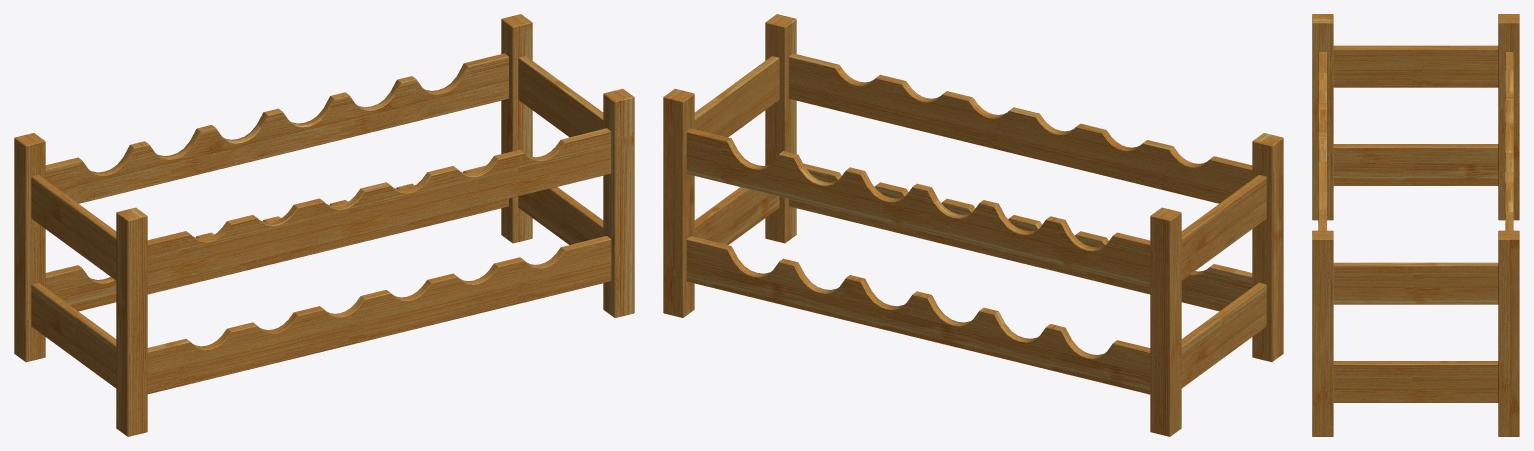
The model's file is WineShelf.fbx.
3 renders of one model, left to right at view 1: azimuth 30°, elevation 25°; view 2: azimuth 150°, elevation 25°; view 3: azimuth 270°, elevation 25°, orthographic. The views are drawn at different scales.
Visible parts, largest first — view 1: WineShelf; view 2: WineShelf; view 3: WineShelf.
Part boxes in pixels (<box>): WineShelf: <box>14,14,634,436</box>; WineShelf: <box>663,14,1283,436</box>; WineShelf: <box>1312,14,1519,436</box>.
Size of the model in its own units: 24.5 by 10 by 9.51.
